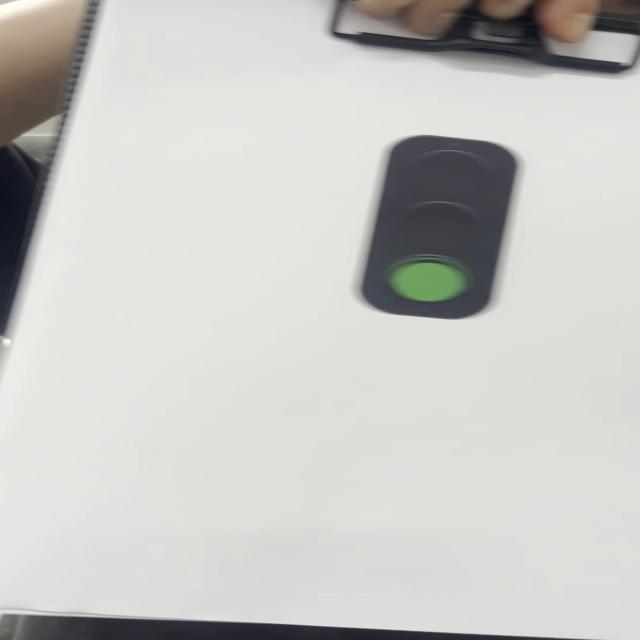green: (369, 130, 515, 316)
